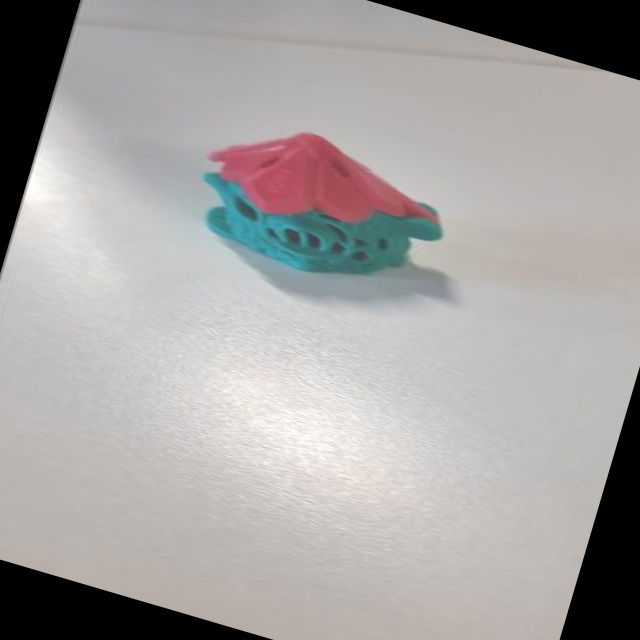House: (166, 94, 511, 350)
